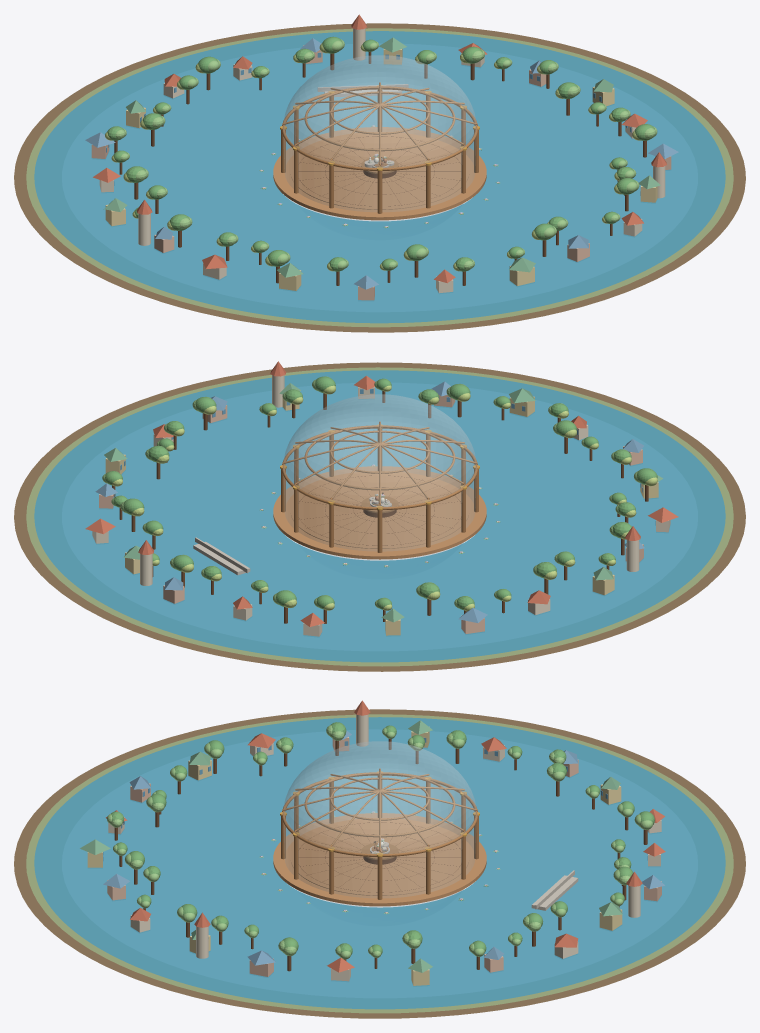
The model's file is atelier_environment_web.glb.
3 views of the same model, one above another, from view 1: azimuth 30°, elevation 25°; view 2: azimuth 150°, elevation 25°; view 3: azimuth 270°, elevation 25° (orthographic).
Visible parts, largest first — view 1: EXT Water Surface, Glass Dome, EXT Soil Shore, Inner Floor, EXT Green Shore, Pavilion Floor, Roof Ring 9.5, Roof Ring 7.3, Roof Ring 4.8; view 2: EXT Water Surface, Glass Dome, EXT Soil Shore, Inner Floor, EXT Green Shore, Pavilion Floor, Roof Ring 9.5, Roof Ring 7.3, Roof Ring 4.8, EXT Bridge Deck; view 3: EXT Water Surface, Glass Dome, EXT Soil Shore, Inner Floor, EXT Green Shore, Pavilion Floor, Roof Ring 9.5, Roof Ring 7.3, Roof Ring 4.8, EXT Bridge Deck.
Part boxes in pixels (bbox=[...]): EXT Water Surface: bbox=[34, 31, 725, 323]; Glass Dome: bbox=[283, 55, 476, 221]; EXT Soil Shore: bbox=[14, 23, 745, 332]; Inner Floor: bbox=[290, 134, 469, 209]; EXT Green Shore: bbox=[26, 28, 733, 327]; Pavilion Floor: bbox=[273, 127, 486, 220]; Roof Ring 9.5: bbox=[282, 86, 477, 170]; Roof Ring 7.3: bbox=[304, 86, 455, 151]; Roof Ring 4.8: bbox=[330, 91, 429, 134]; EXT Water Surface: bbox=[34, 370, 725, 662]; Glass Dome: bbox=[283, 394, 476, 560]; EXT Soil Shore: bbox=[14, 362, 745, 671]; Inner Floor: bbox=[290, 473, 469, 548]; EXT Green Shore: bbox=[26, 367, 733, 666]; Pavilion Floor: bbox=[273, 466, 486, 559]; Roof Ring 9.5: bbox=[282, 426, 477, 510]; Roof Ring 7.3: bbox=[304, 425, 455, 490]; Roof Ring 4.8: bbox=[330, 430, 429, 473]; EXT Bridge Deck: bbox=[193, 541, 250, 575]; EXT Water Surface: bbox=[34, 717, 725, 1009]; Glass Dome: bbox=[283, 741, 476, 907]; EXT Soil Shore: bbox=[14, 709, 745, 1018]; Inner Floor: bbox=[290, 820, 469, 895]; EXT Green Shore: bbox=[26, 714, 733, 1013]; Pavilion Floor: bbox=[273, 813, 486, 906]; Roof Ring 9.5: bbox=[282, 772, 477, 856]; Roof Ring 7.3: bbox=[304, 772, 455, 837]; Roof Ring 4.8: bbox=[330, 777, 429, 820]; EXT Bridge Deck: bbox=[531, 875, 578, 910].
Bounding box in the file's own units: 72 × 17.41 × 72.
